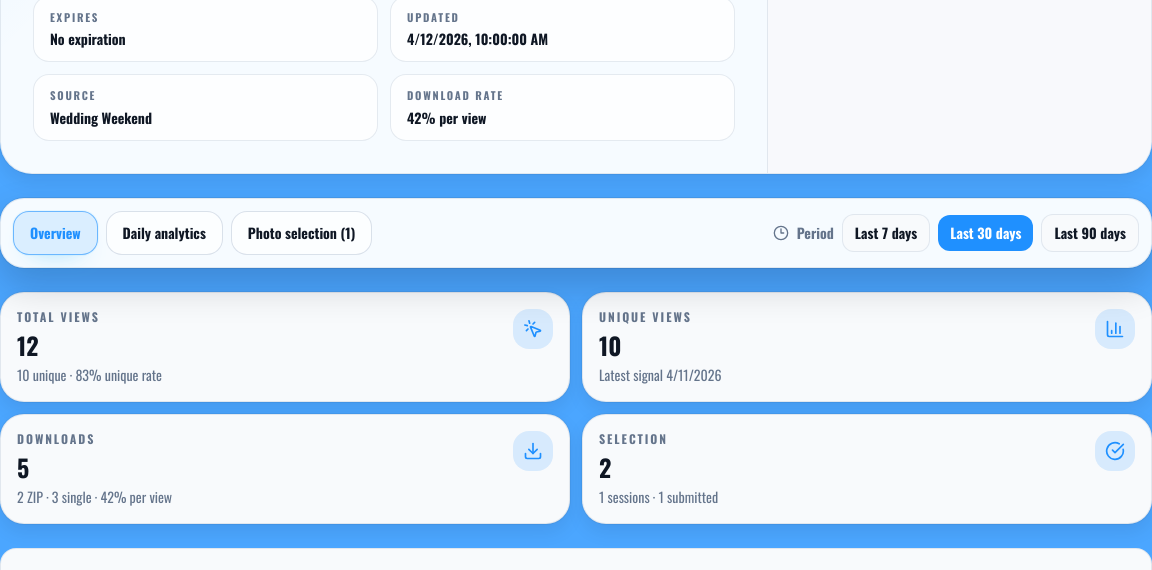
it: ShareLinkDetailPage › preserves gallery grouping for project selection details
(page scrolled)
Click the tab "Photo selection (1)".
click(302, 233)  # box [231,211,372,255]
(page scrolled)
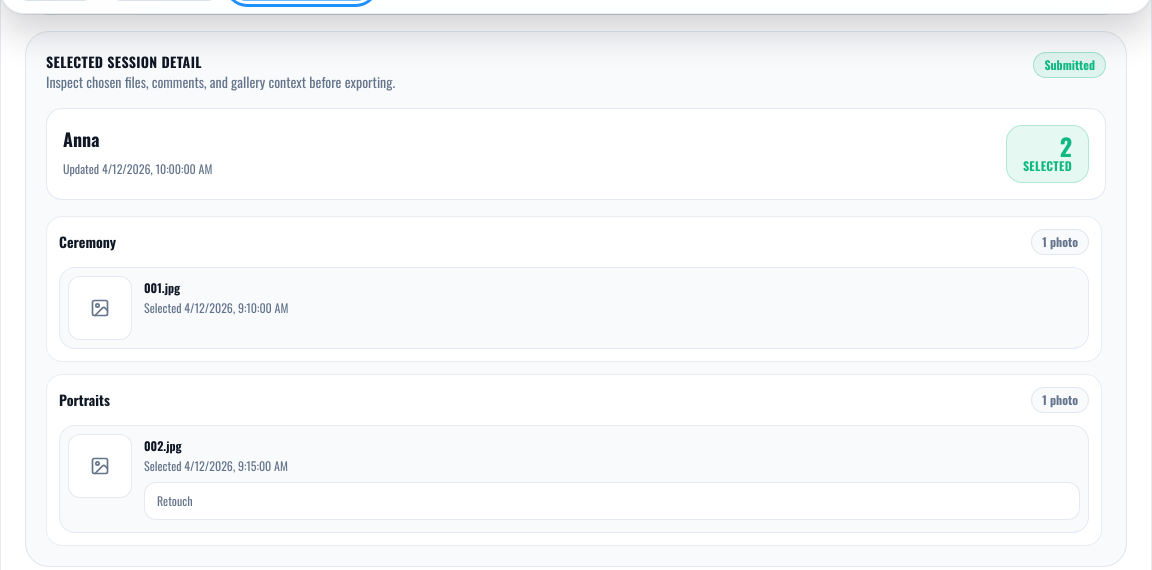
expect the text "Ceremony" is shown: met, box [59,232,116,252]
expect the text "Portraits" is shown: met, box [59,390,110,410]
expect the text "Retouch" is shown: met, box [144,482,1080,520]
